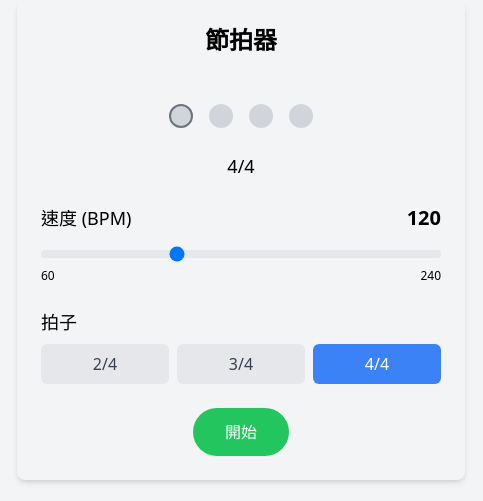
Test: Metronome › 應該在調整速度滾動條時更新 BPM
Set the slider to "140" at (220, 254), box [41,250,441,258]
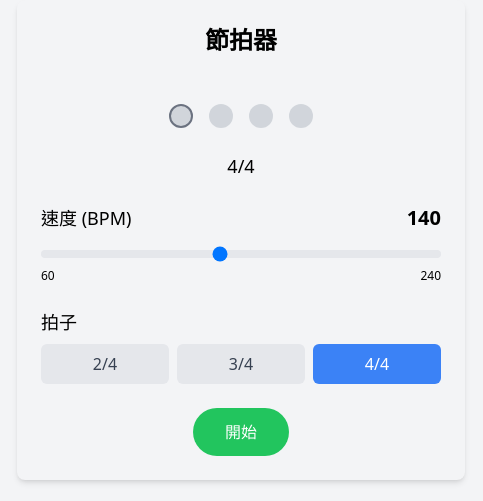
Expected: the text "140" is shown, [407,204,441,232]
